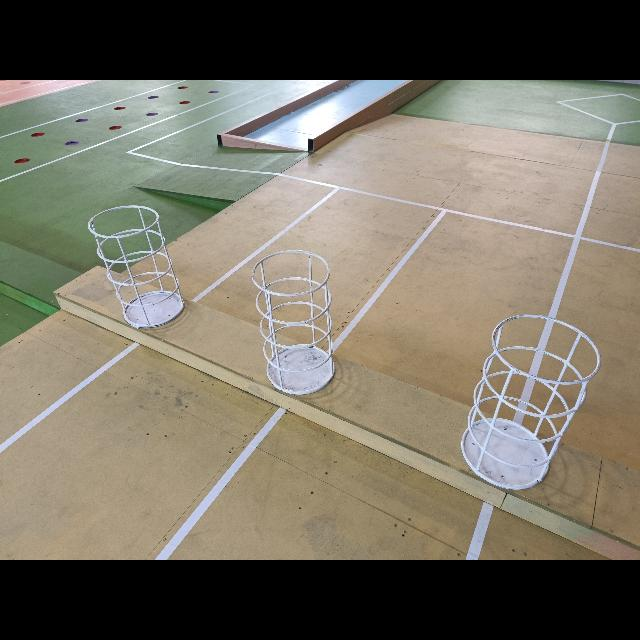S: (456, 311, 611, 493), (249, 248, 338, 398), (85, 203, 187, 329)
